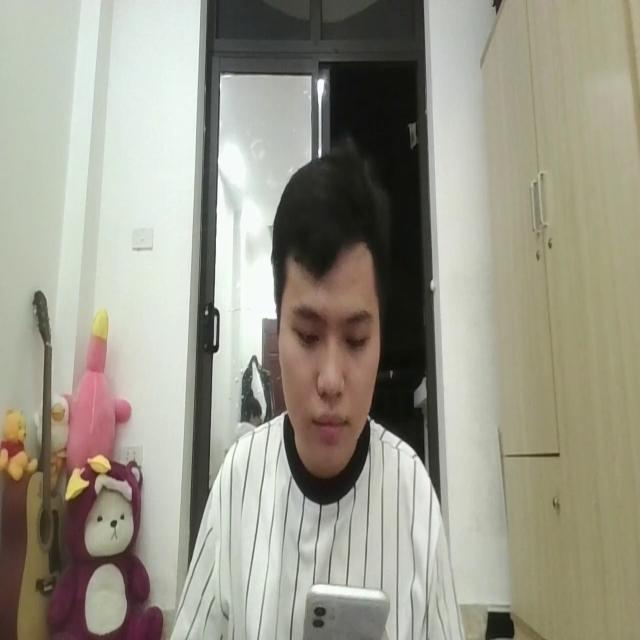phone: (300, 569, 387, 640)
student: (163, 144, 469, 640)
